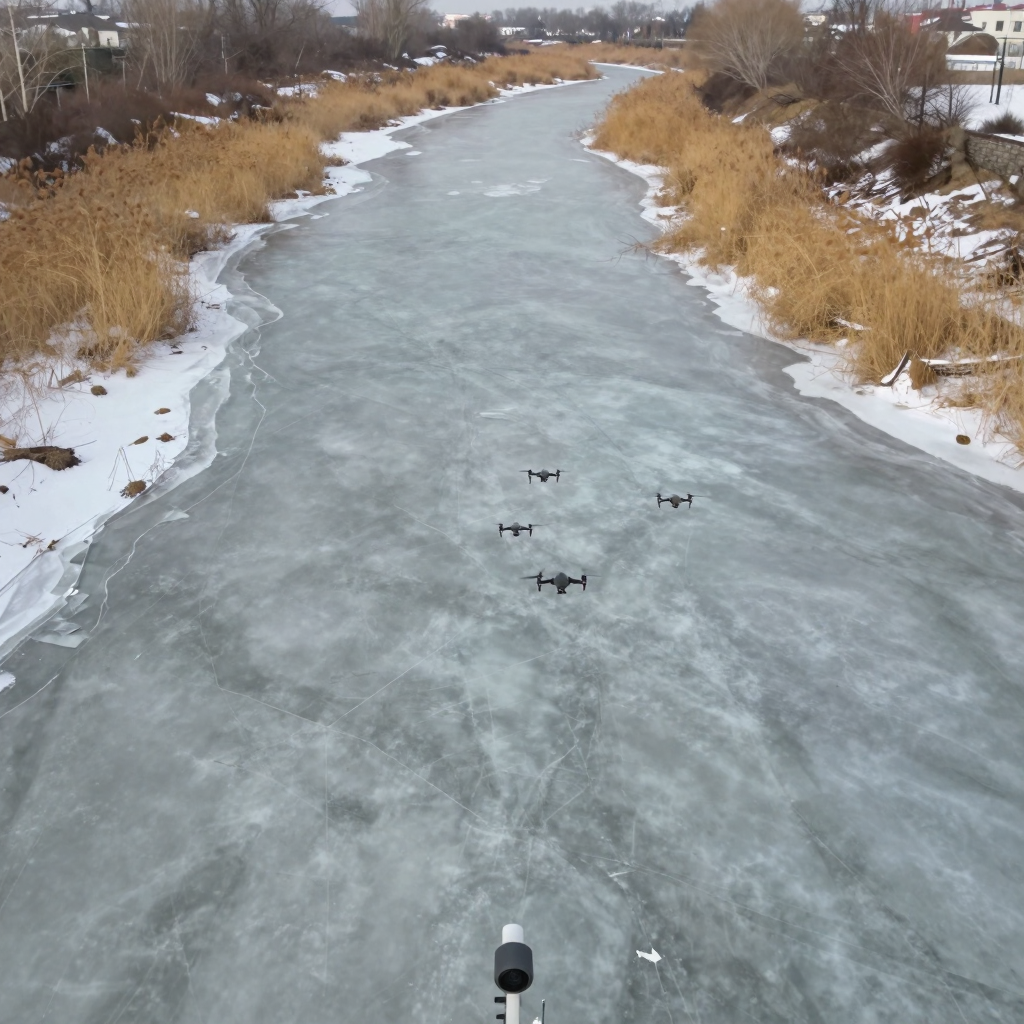drone: (520, 571, 587, 594), (494, 522, 548, 538), (519, 469, 566, 484), (656, 493, 694, 509)
